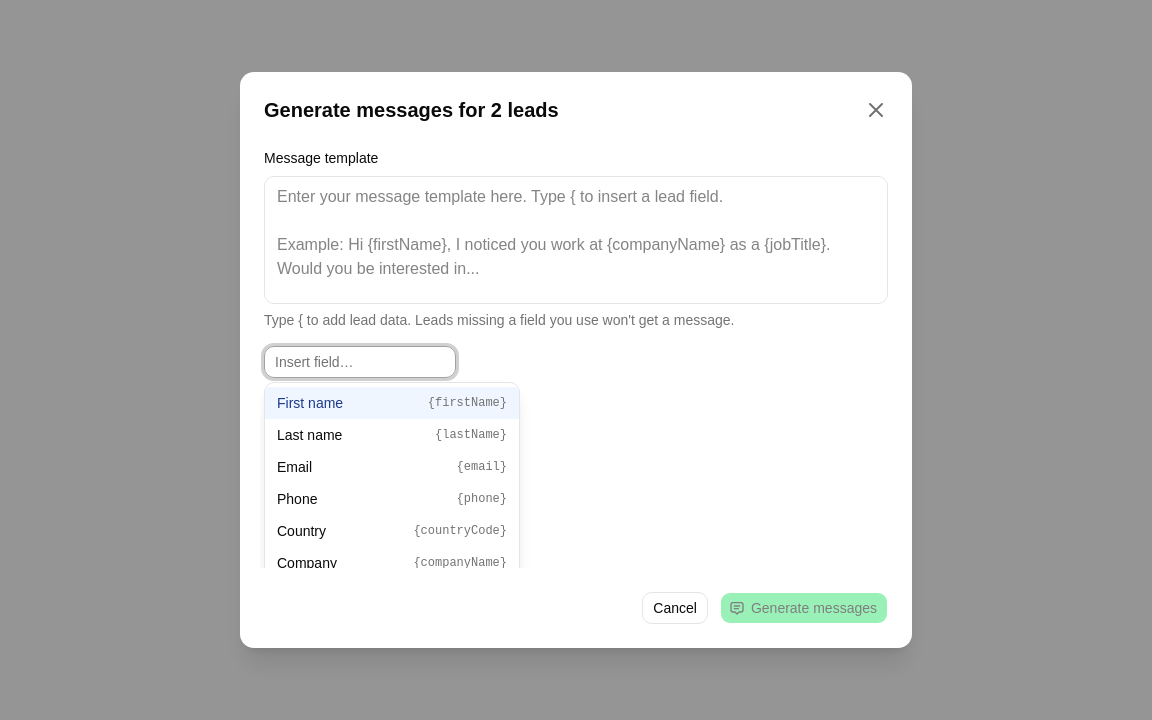
Test: MessageTemplateModal › narrows the options as you type, by label or placeholder
Type "link" into the dropdown named "search fields" at (360,362), box [264,346,456,378]
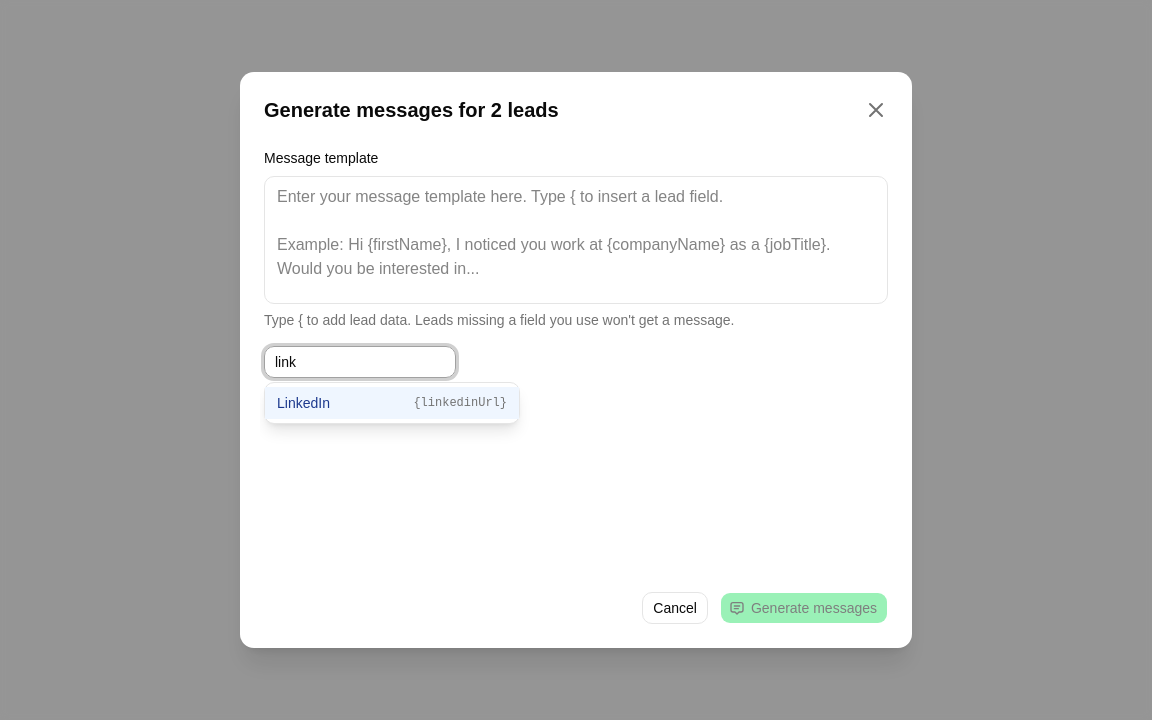
Expected: the options read "LinkedIn{linkedinUrl}", in this order, [265,387,519,419]
Replace the text in the dropdown named "search fields" with "countryco" at (360,362), box [264,346,456,378]
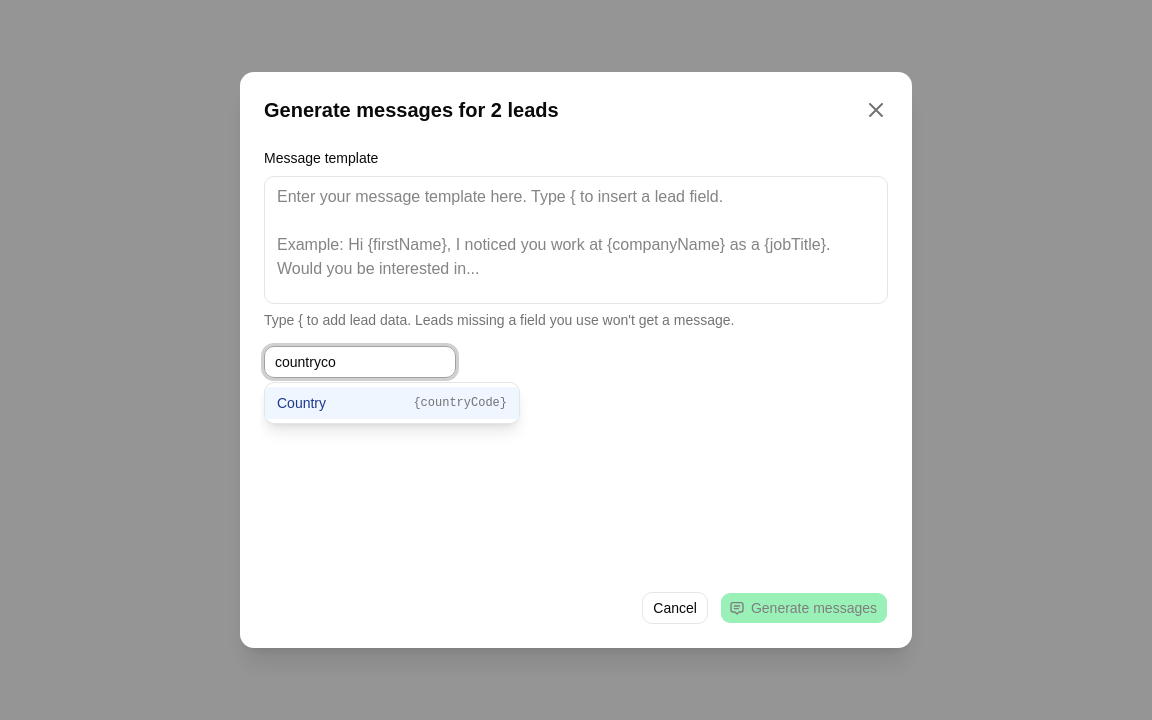
Expected: the option shows "Country", [265,387,519,419]
Replace the text in the dropdown named "search fields" with "gender" at (360,362), box [264,346,456,378]
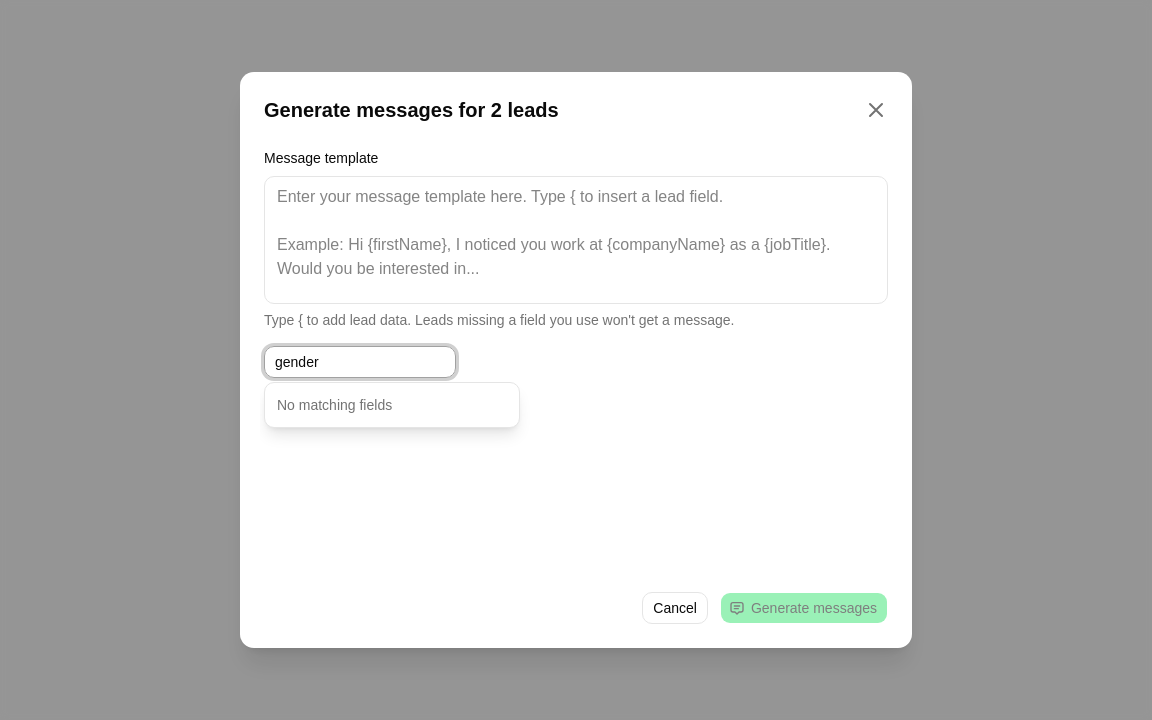
Expected: the option is gone
Expected: the text "No matching fields" is shown, [277,397,392,413]
